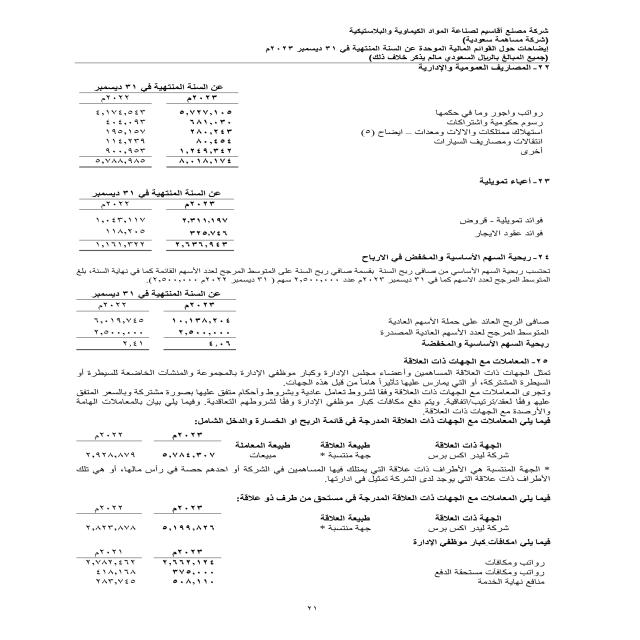notes: (448, 43, 554, 53)
table: (49, 498, 232, 608), (81, 424, 518, 467), (58, 77, 247, 176), (57, 280, 248, 366), (55, 182, 254, 260)
